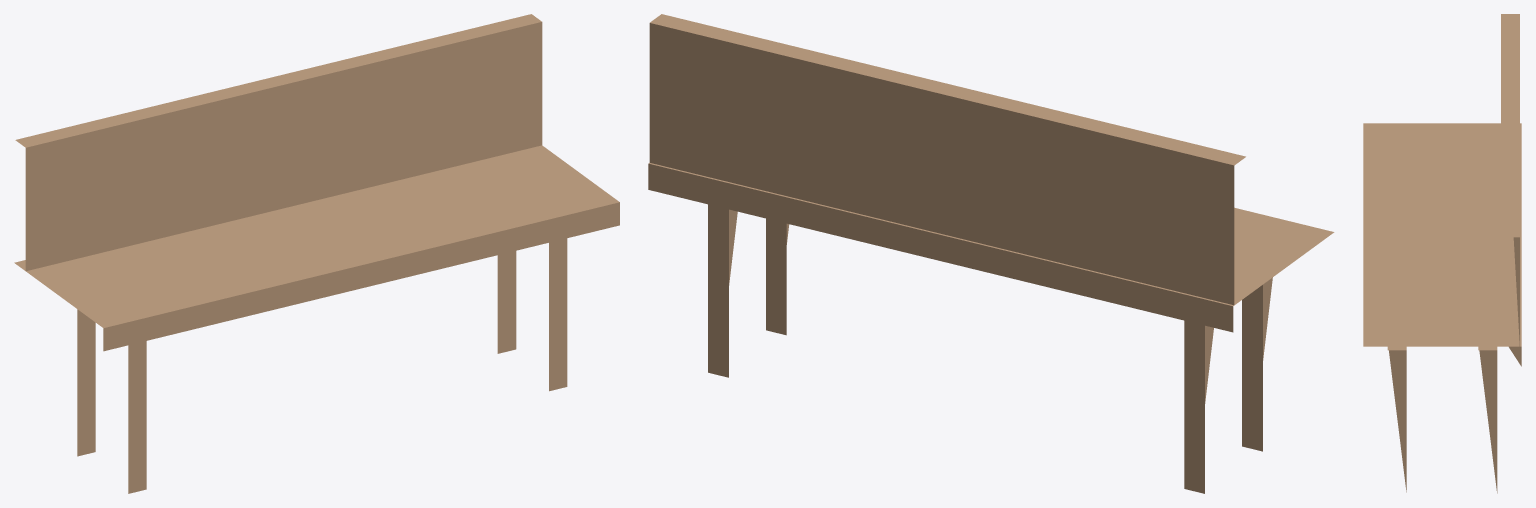
Rendered from bench.glb.
The picture shows the model from 3 angles, left to right: view 1: azimuth 30°, elevation 25°; view 2: azimuth 150°, elevation 25°; view 3: azimuth 270°, elevation 25°; orthographic projection. The views are drawn at different scales.
Bounding box in the file's own units: 1.4 × 0.8 × 0.42.
